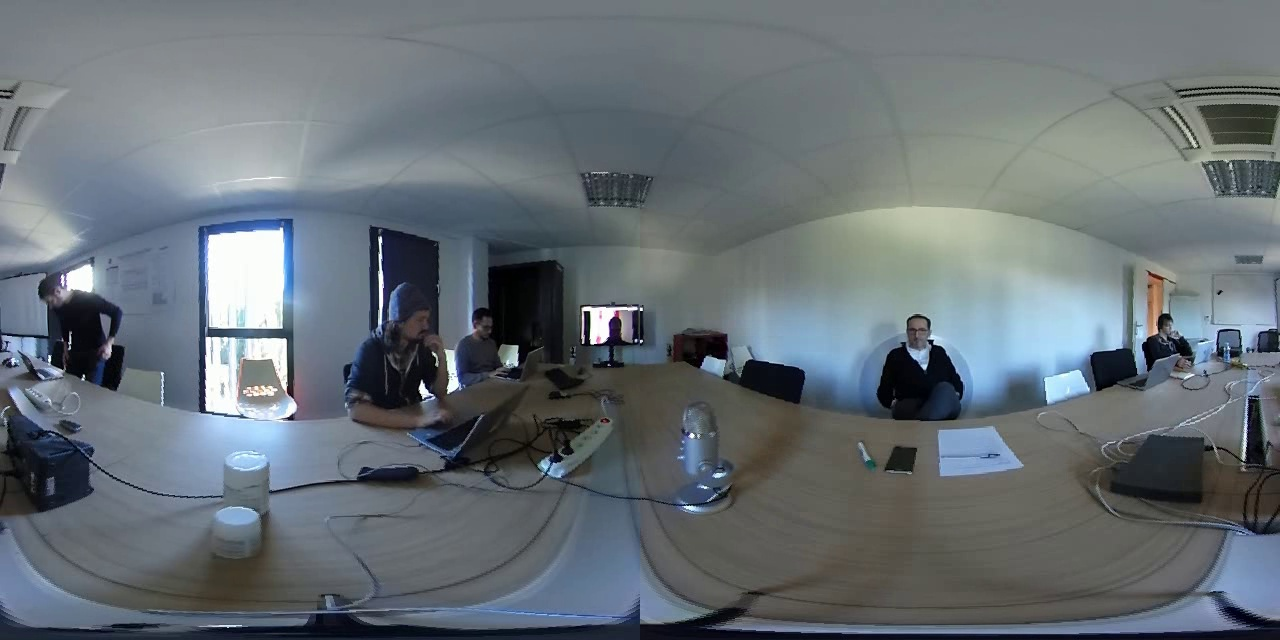person: (346, 279, 447, 401), (873, 304, 971, 425), (28, 267, 126, 377), (459, 301, 508, 380), (1143, 306, 1191, 364), (585, 304, 638, 349)
